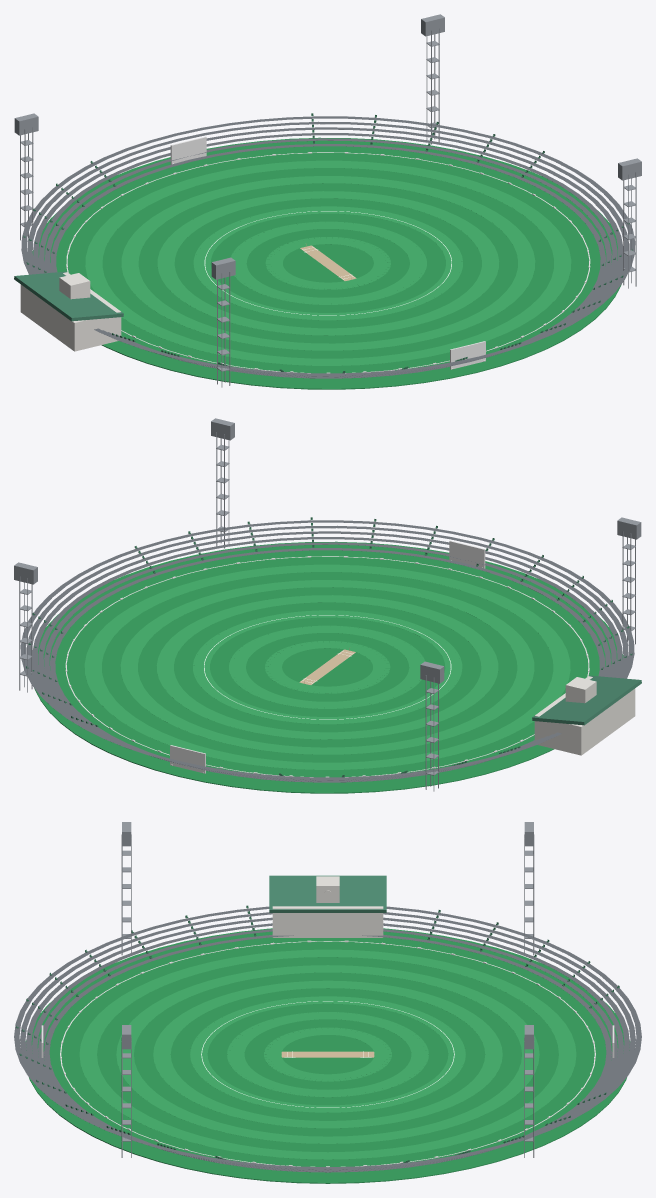
File: dynamic_field_cricket.glb
3 views of the same model, one above another, from view 1: azimuth 30°, elevation 25°; view 2: azimuth 150°, elevation 25°; view 3: azimuth 270°, elevation 25° (orthographic). The views are drawn at different scales.
Visible parts, largest first — view 1: Outfield_Base, Outfield_LawnBands, Cricket_Bleachers, Cricket_FloodlightPylons, Cricket_PavilionClubhouse, Cricket_PavilionRoof, Boundary_RopeWedges, Cricket_SightScreens, Cricket_Seats, Cricket_PitchStrip; view 2: Outfield_Base, Outfield_LawnBands, Cricket_Bleachers, Cricket_FloodlightPylons, Cricket_PavilionClubhouse, Cricket_PavilionRoof, Boundary_RopeWedges, Cricket_SightScreens, Cricket_Seats, Cricket_PitchStrip; view 3: Outfield_Base, Outfield_LawnBands, Cricket_Bleachers, Cricket_PavilionClubhouse, Cricket_PavilionRoof, Cricket_FloodlightPylons, Boundary_RopeWedges, Cricket_Seats, Cricket_PitchStrip, Fielding_InnerCircle.
Boxes of the visible parts, x1,y1,x2,y2 form: Outfield_Base: [32, 137, 621, 389]; Outfield_LawnBands: [85, 160, 571, 365]; Cricket_Bleachers: [21, 116, 635, 378]; Cricket_FloodlightPylons: [14, 14, 641, 387]; Cricket_PavilionClubhouse: [20, 272, 121, 351]; Cricket_PavilionRoof: [14, 271, 123, 321]; Boundary_RopeWedges: [66, 152, 590, 373]; Cricket_SightScreens: [170, 136, 485, 369]; Cricket_Seats: [23, 113, 632, 373]; Cricket_PitchStrip: [300, 245, 356, 280]; Outfield_Base: [34, 541, 623, 793]; Outfield_LawnBands: [84, 564, 570, 769]; Cricket_Bleachers: [20, 520, 634, 782]; Cricket_FloodlightPylons: [14, 418, 641, 791]; Cricket_PavilionClubhouse: [534, 676, 635, 755]; Cricket_PavilionRoof: [532, 675, 641, 725]; Boundary_RopeWedges: [65, 556, 589, 777]; Cricket_SightScreens: [170, 540, 485, 773]; Cricket_Seats: [26, 517, 632, 777]; Cricket_PitchStrip: [299, 649, 355, 684]; Outfield_Base: [25, 928, 630, 1183]; Outfield_LawnBands: [79, 949, 576, 1159]; Cricket_Bleachers: [14, 906, 641, 1172]; Cricket_PavilionClubhouse: [272, 876, 383, 937]; Cricket_PavilionRoof: [269, 875, 386, 912]; Cricket_FloodlightPylons: [121, 822, 534, 1157]; Boundary_RopeWedges: [60, 940, 595, 1167]; Cricket_Seats: [16, 905, 619, 1163]; Cricket_PitchStrip: [281, 1051, 374, 1057]; Fielding_InnerCircle: [201, 1001, 454, 1107].
Bounding box in the file's own units: 141 × 30.45 × 136.
